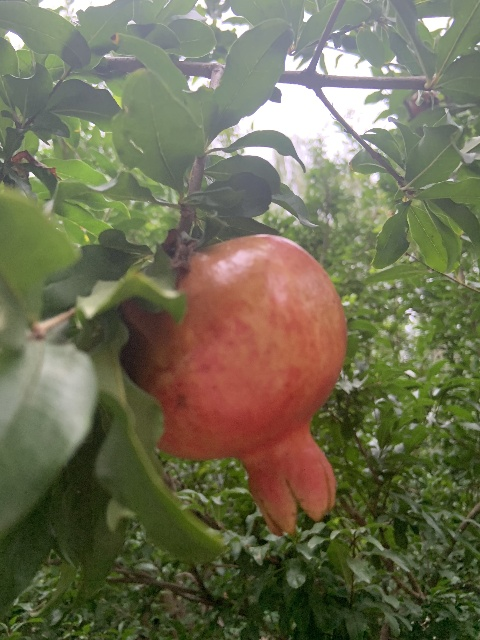ripe: (117, 232, 349, 539)
